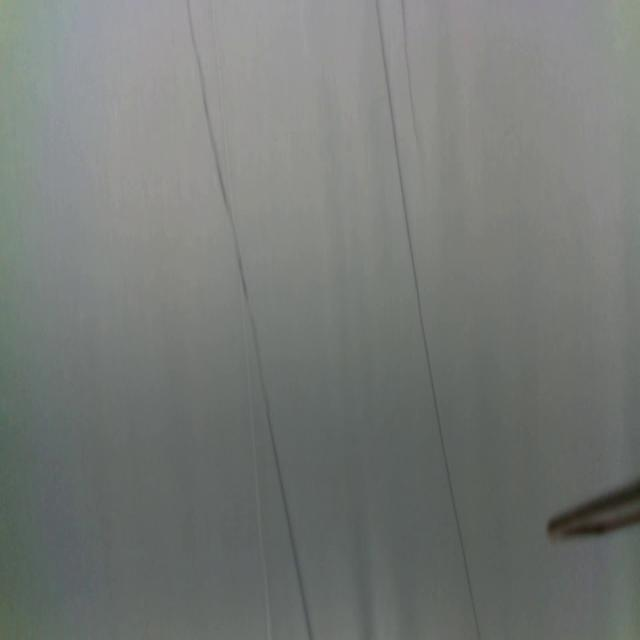crease: (184, 0, 314, 640), (371, 0, 480, 638), (210, 0, 276, 639), (399, 0, 422, 151)
